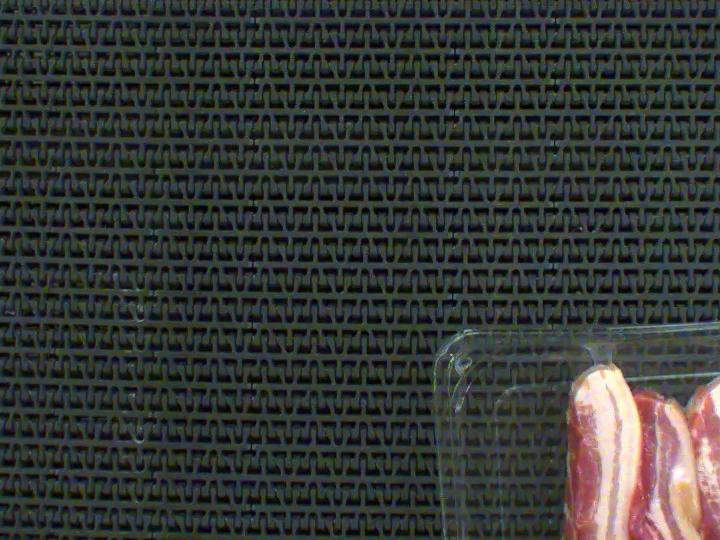packaging-error: (562, 307, 642, 400)
